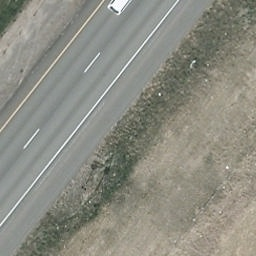car: (107, 0, 143, 17)
